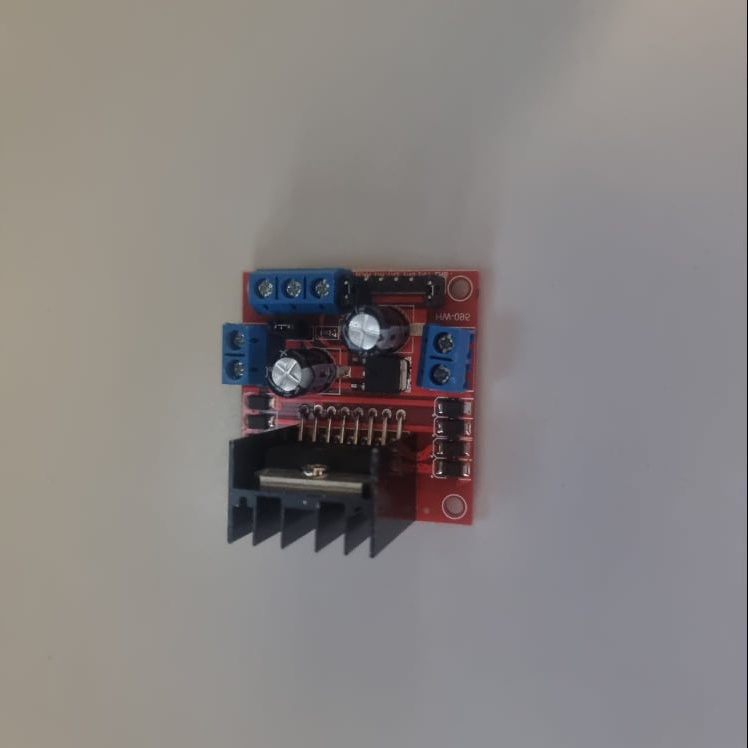MOTOR: (222, 266, 477, 564)
